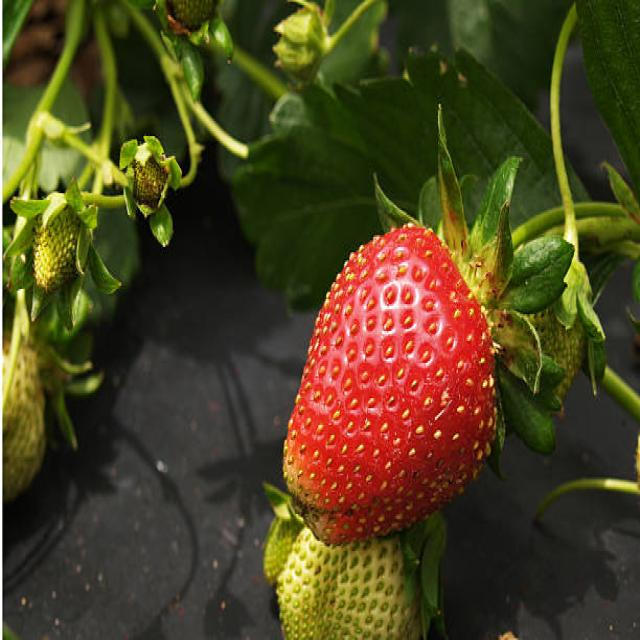Healthy Fruit: (283, 222, 500, 546)
